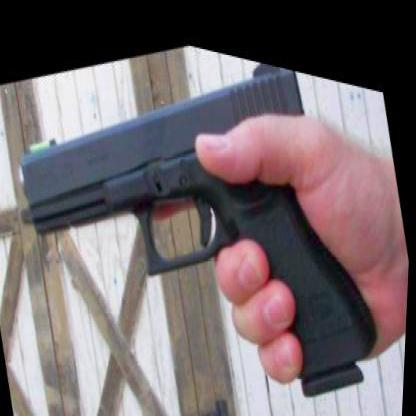pistol: (0, 0, 394, 412)
